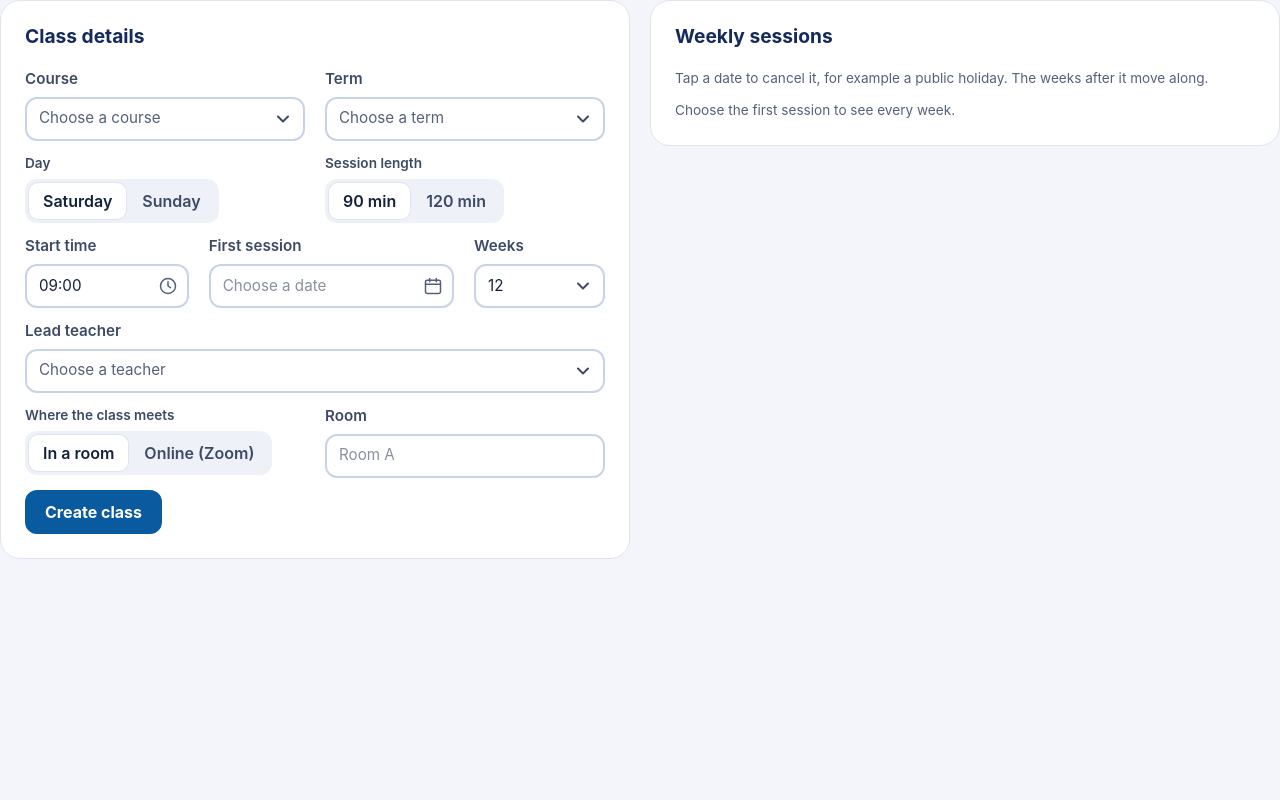
Test case: NewClassForm › previews one session a week, with times, and lets a holiday be skipped
Type "2027-01-09" into the dropdown labelled "First session" at (331, 286), box left=209, top=264, right=454, bottom=308
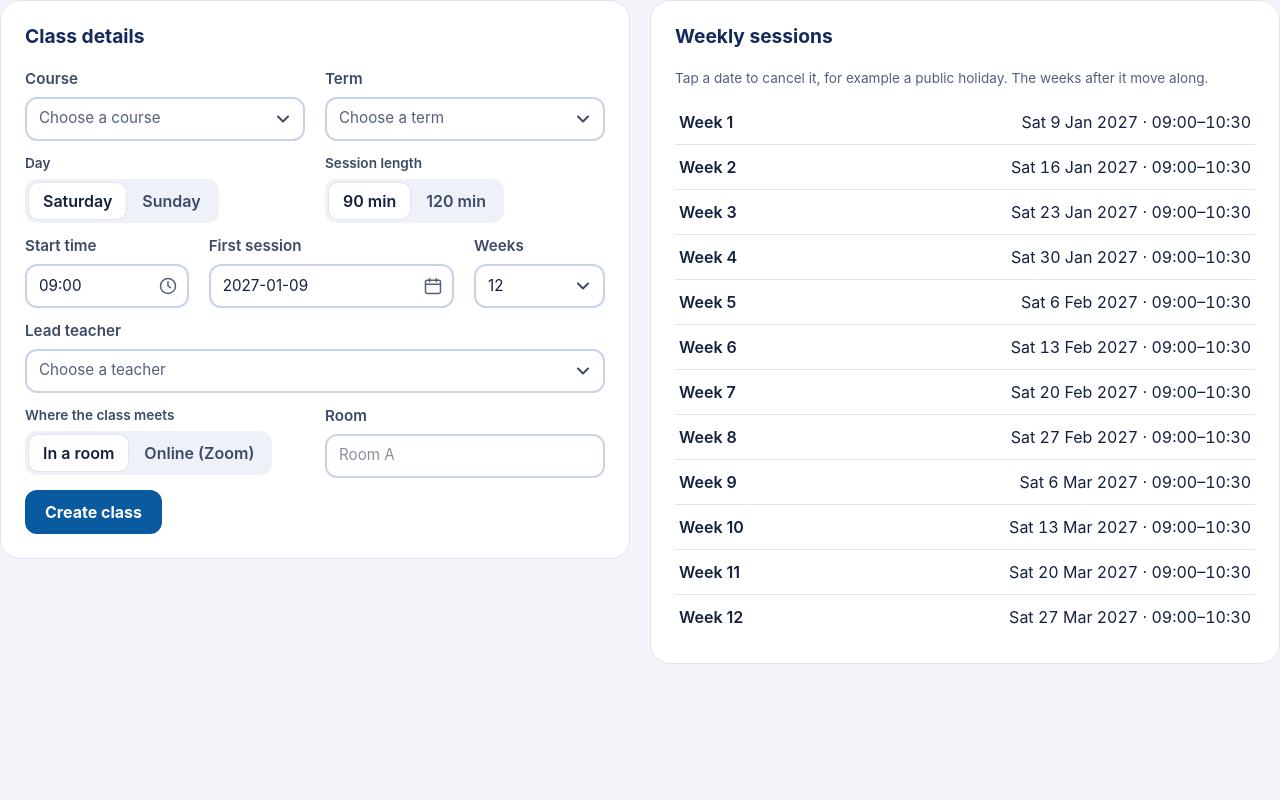
Expected: the number of list items is 12
Expected: the list item "Week 1 Sat 9 Jan 2027 · 09:00–10:30" is shown, left=675, top=100, right=1255, bottom=144
Click the button "Week 2 Sat 16 Jan 2027 · 09:00–10:30" at (708, 167), box left=675, top=144, right=1255, bottom=189
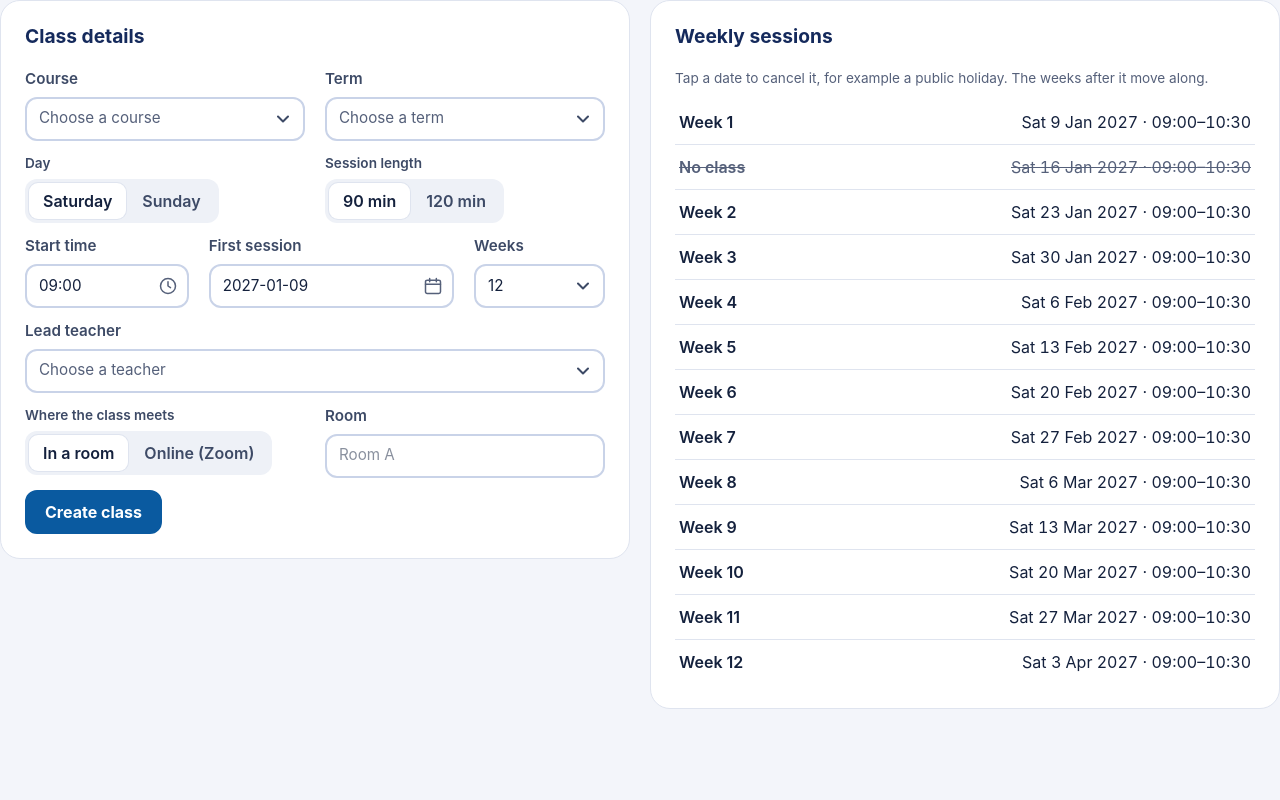
Expected: the number of list items is 13
Expected: the list item "No class Sat 16 Jan 2027 · 09:00–10:30" is shown, left=675, top=144, right=1255, bottom=189
